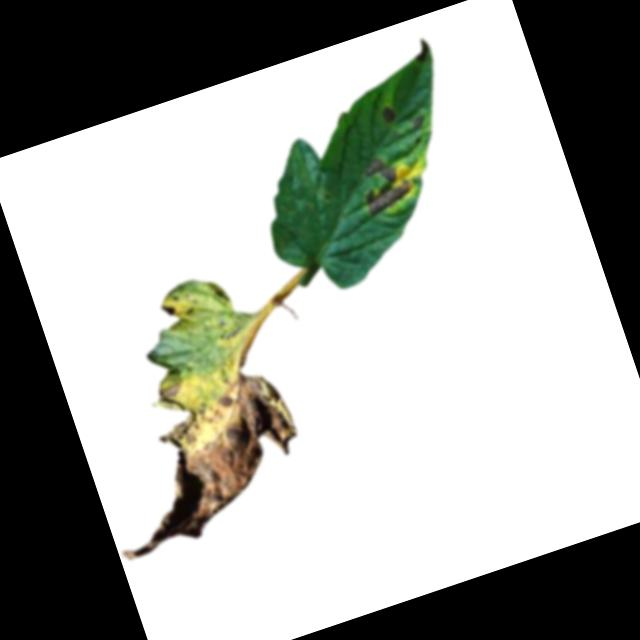Early_blight: (73, 348, 320, 565), (352, 149, 418, 219), (410, 35, 434, 65), (378, 103, 399, 129), (159, 302, 177, 322), (410, 114, 429, 131)
